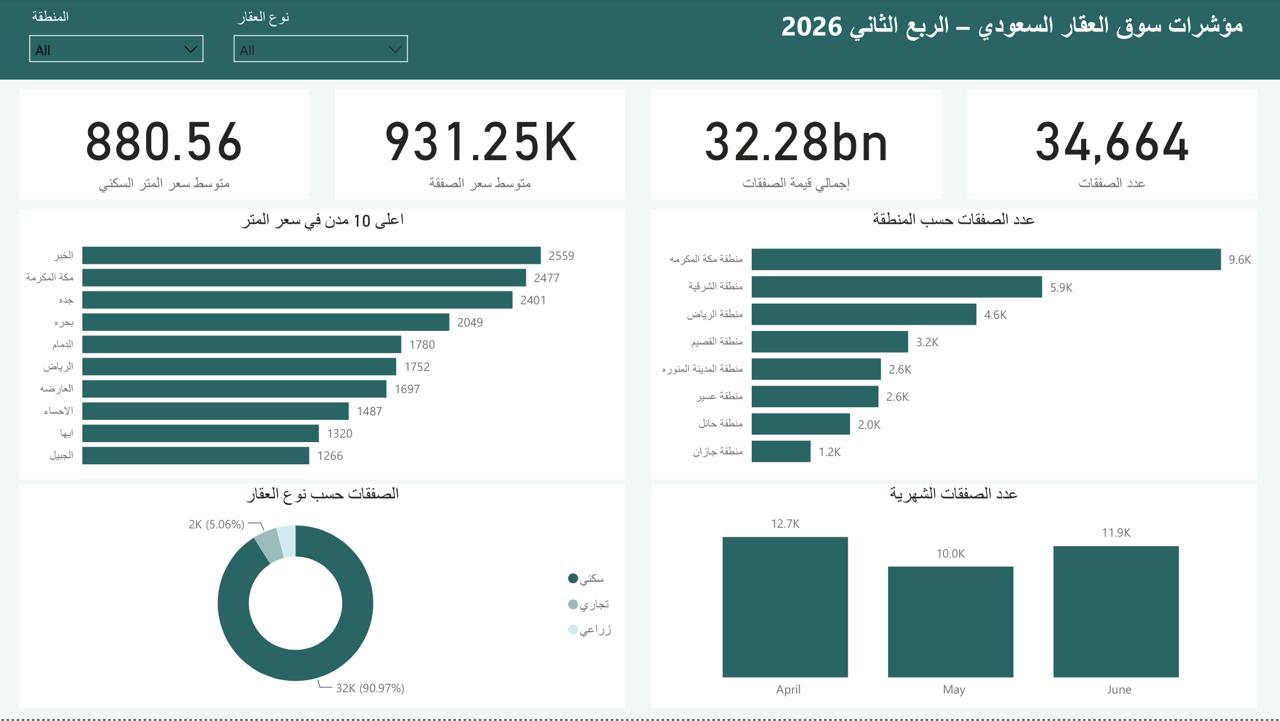

This screenshot's page, from the dashboard's own definition file:
{"tool":"powerbi","page":{"name":"Page 1","canvas":[1280,720],"ordinal":0},"visuals":[{"type":"shape","box":[0,0,1279.8,82.3],"z":0},{"type":"textbox","box":[661.2,4.4,584.8,72],"z":1000},{"type":"card","fields":{"Values":["Measures Table 1.Total Deals"]},"box":[966.9,91.1,289.5,110.2],"z":2000},{"type":"card","fields":{"Values":["Measures Table 1.Total Value"]},"box":[651.4,91.1,289.5,110.2],"z":3000},{"type":"card","fields":{"Values":["Measures Table 1.Avg Price"]},"box":[336,91.1,289.5,110.2],"z":4000},{"type":"card","fields":{"Values":["Measures Table 1.Residential Price per SQM"]},"box":[20.6,91.1,289.5,110.2],"z":5000},{"type":"clusteredBarChart","title":"عدد الصفقات حسب المنطقة","fields":{"Category":["dim_region.region_name"],"Y":["Measures Table 1.Total Deals"]},"box":[651.8,211.7,604.7,268.8],"z":6000},{"type":"clusteredBarChart","title":"اعلى 10 مدن في سعر المتر","fields":{"Category":["dim_city.city_name"],"Y":["Measures Table 1.City Residential Price per SQM"]},"box":[20.2,211.7,604.7,268.8],"z":7000},{"type":"clusteredColumnChart","title":"عدد الصفقات الشهرية","fields":{"Category":["fact_sales.deal_date.Variation.Date Hierarchy.Month"],"Y":["Measures Table 1.Total Deals"]},"box":[651.8,485.5,604.7,223.4],"z":8000},{"type":"donutChart","title":"الصفقات حسب نوع العقار","fields":{"Category":["dim_property_class.class_name"],"Y":["Measures Table 1.Total Deals"]},"box":[20.2,485.5,604.7,223.4],"z":9000},{"type":"slicer","fields":{"Values":["dim_region.region_name"]},"box":[20.6,5.9,194,70.5],"z":10000},{"type":"slicer","fields":{"Values":["dim_property_class.class_name"]},"box":[224.8,5.9,194,70.5],"z":11000}]}

Visuals, with their boxes in screenshot pixels (x1, y1, x2, y2), scaled from the page's 1280x720 canvas onto the 1280x721 screenshot:
shape: locate(0, 0, 1279, 82)
textbox: locate(661, 4, 1246, 77)
card - Measures Table 1.Total Deals: locate(967, 91, 1256, 202)
card - Measures Table 1.Total Value: locate(651, 91, 941, 202)
card - Measures Table 1.Avg Price: locate(336, 91, 626, 202)
card - Measures Table 1.Residential Price per SQM: locate(21, 91, 310, 202)
"عدد الصفقات حسب المنطقة" clusteredBarChart: locate(652, 212, 1256, 481)
"اعلى 10 مدن في سعر المتر" clusteredBarChart: locate(20, 212, 625, 481)
"عدد الصفقات الشهرية" clusteredColumnChart: locate(652, 486, 1256, 710)
"الصفقات حسب نوع العقار" donutChart: locate(20, 486, 625, 710)
slicer - dim_region.region_name: locate(21, 6, 215, 77)
slicer - dim_property_class.class_name: locate(225, 6, 419, 77)
